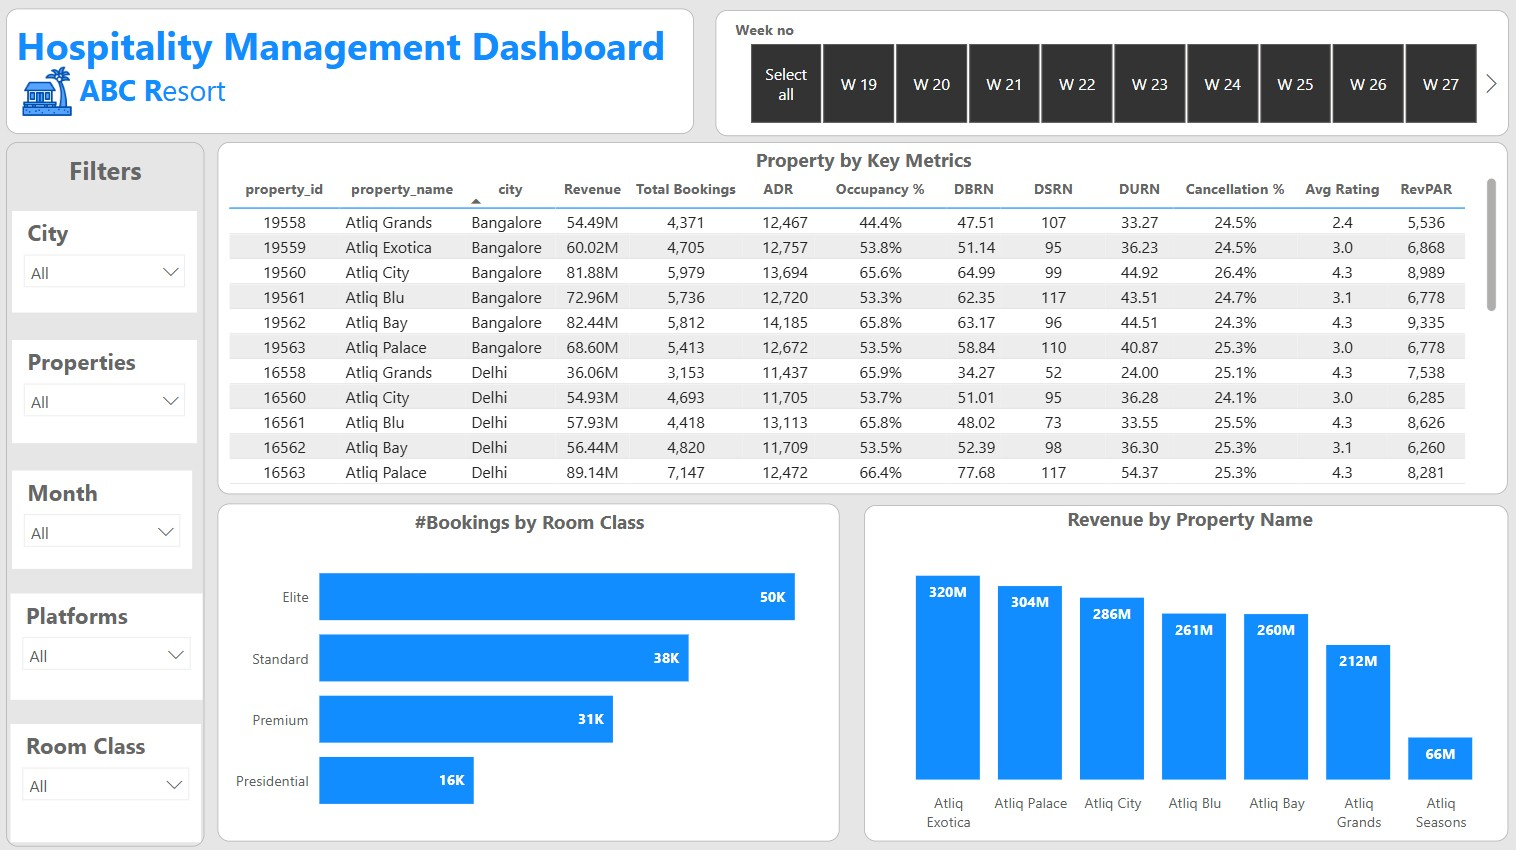

The page's visual inventory and layout, read from the dashboard file:
{"tool":"powerbi","page":{"name":"Page 3","canvas":[1280,720],"ordinal":2},"visuals":[{"type":"textbox","box":[7.9,9.5,578.1,105.5],"z":0},{"type":"image","box":[10,51.4,64.3,52.9],"z":1000},{"type":"textbox","box":[7.9,121.3,167,592.2],"z":2000},{"type":"slicer","fields":{"Values":["dim_hotel.city"]},"box":[12.4,179.1,155.7,85.4],"z":3000},{"type":"slicer","fields":{"Values":["dim_hotel.property_name"]},"box":[12.4,287.9,155.7,86.8],"z":4000},{"type":"slicer","fields":{"Values":["dim_date.Month Name"]},"box":[12.4,396.7,151.5,82.7],"z":5000},{"type":"slicer","fields":{"Values":["fact_booking.booking_platform"]},"box":[11,500.1,161.2,89.5],"z":6000},{"type":"slicer","fields":{"Values":["dim_room.room_class"]},"box":[11,610.3,159.8,99.2],"z":7000},{"type":"slicer","title":"Week No","fields":{"Values":["dim_date.week no"]},"box":[603.4,9.6,666.7,106.1],"z":8000},{"type":"tableEx","title":"Property by Key Metrics","fields":{"Values":["dim_hotel.property_id","dim_hotel.property_name","dim_hotel.city","_Measures.Revenue","_Measures.Total Bookings","_Measures.ADR","_Measures.Occupancy %","_Measures.DBRN","_Measures.DSRN","_Measures.DURN","_Measures.Cancellation %","_Measures.Avg Rating"]},"box":[185.7,121.4,1084.3,295.7],"z":9000},{"type":"barChart","title":"#Bookings by Room Class","fields":{"Category":["dim_room.room_class"],"Y":["_Measures.Total Bookings"]},"box":[185.7,424.3,522.9,284.3],"z":10000},{"type":"columnChart","title":"Revenue by Property Name","fields":{"Category":["dim_hotel.property_name"],"Y":["_Measures.Revenue"]},"box":[728.6,425.7,541.4,282.9],"z":11000}]}

Visuals, with their boxes in screenshot pixels (x1, y1, x2, y2), scaled from the page's 1280x720 canvas onto the 1516x850 screenshot:
textbox: <bbox>9, 11, 694, 136</bbox>
image: <bbox>12, 61, 88, 123</bbox>
textbox: <bbox>9, 143, 207, 842</bbox>
slicer - dim_hotel.city: <bbox>15, 211, 199, 312</bbox>
slicer - dim_hotel.property_name: <bbox>15, 340, 199, 442</bbox>
slicer - dim_date.Month Name: <bbox>15, 468, 194, 566</bbox>
slicer - fact_booking.booking_platform: <bbox>13, 590, 204, 696</bbox>
slicer - dim_room.room_class: <bbox>13, 720, 202, 838</bbox>
"Week No" slicer: <bbox>715, 11, 1504, 137</bbox>
"Property by Key Metrics" tableEx: <bbox>220, 143, 1504, 492</bbox>
"#Bookings by Room Class" barChart: <bbox>220, 501, 839, 837</bbox>
"Revenue by Property Name" columnChart: <bbox>863, 503, 1504, 837</bbox>
